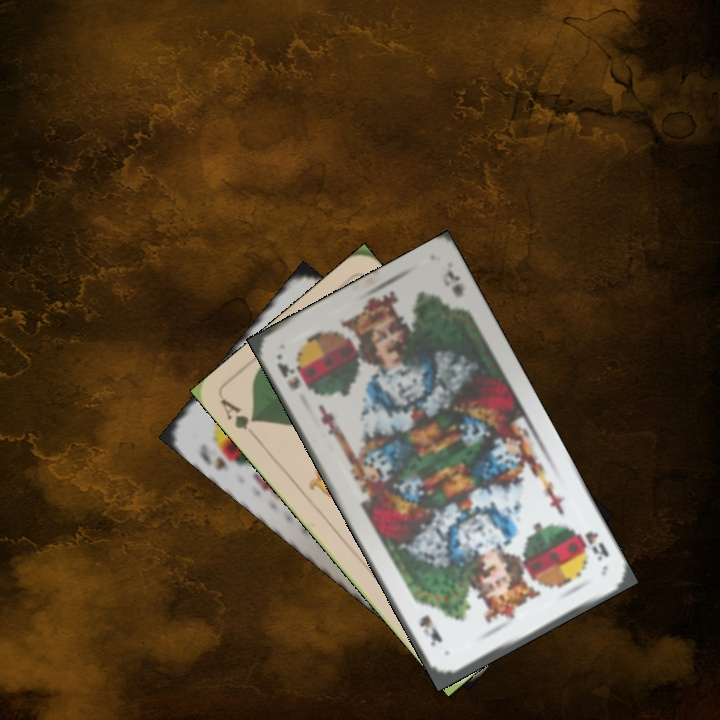GA: (216, 395, 262, 443)
SK: (568, 522, 612, 564), (273, 358, 313, 393), (195, 439, 230, 473)
